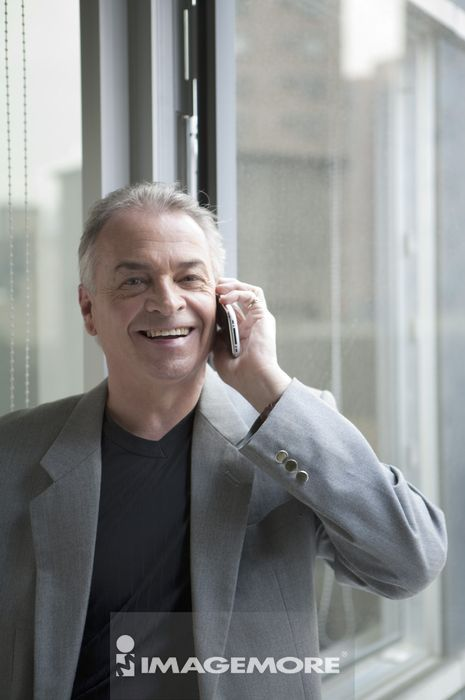phone: (214, 297, 243, 356)
talk: (94, 253, 280, 399)
